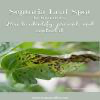Tomato Septoria leaf spot: (2, 49, 99, 85)
